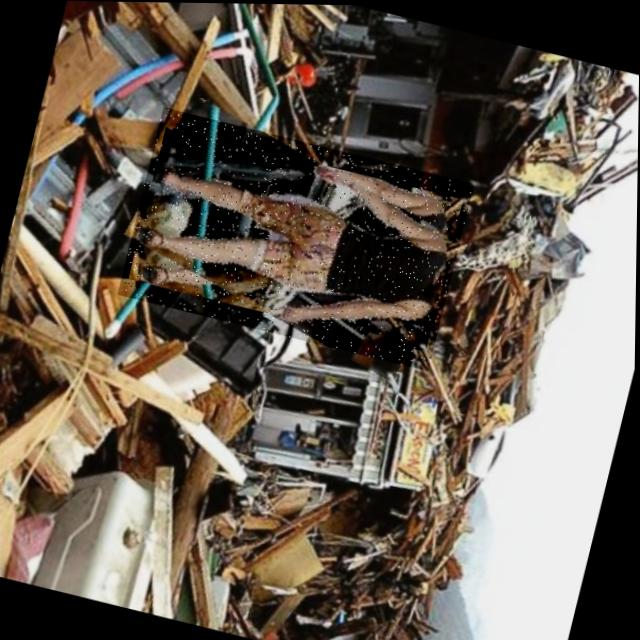Person in Rubble: (116, 106, 474, 370)
